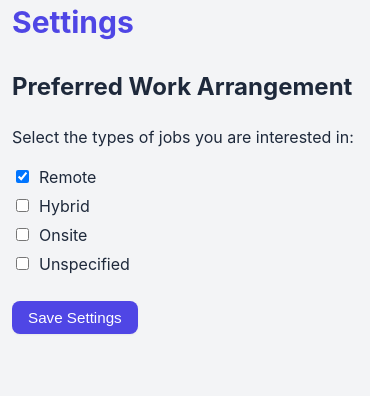
Settings Component › handles backend error gracefully if Firestore succeeds
Step 1. Click the button "Save Settings" → click(75, 317), box [12,301,138,334]
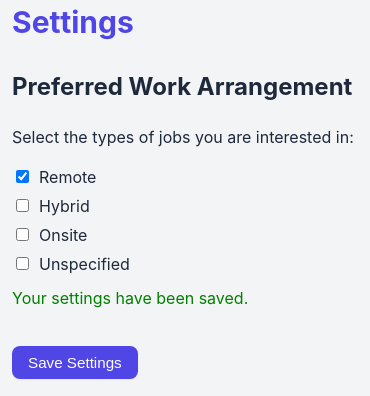
Expected: the text "Your settings have been saved." is shown, [12,288,248,308]
